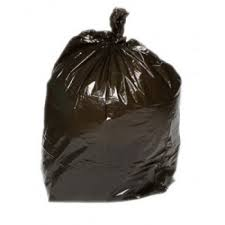Trash: (39, 3, 187, 208)
